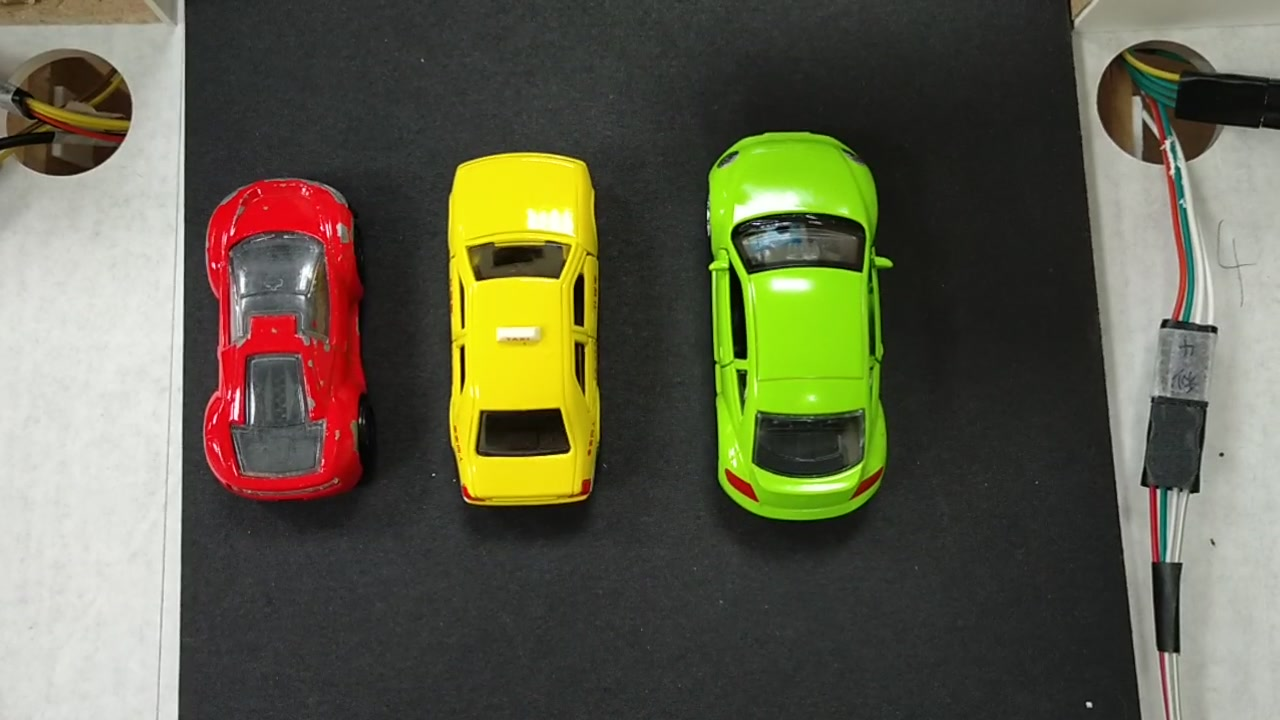car: (716, 141, 889, 513), (451, 156, 597, 505), (207, 189, 356, 498)
